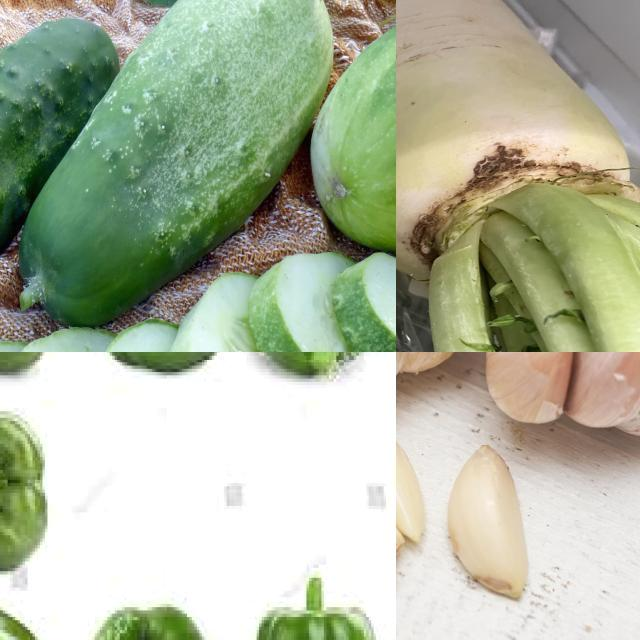bell_pepper: (1, 407, 62, 582), (243, 566, 387, 640), (72, 590, 221, 640), (244, 353, 390, 390), (95, 353, 235, 390)
cucumber: (10, 1, 341, 319), (1, 15, 116, 323), (302, 1, 397, 256)
garlic: (477, 353, 640, 445), (446, 443, 532, 603), (397, 431, 432, 552)
